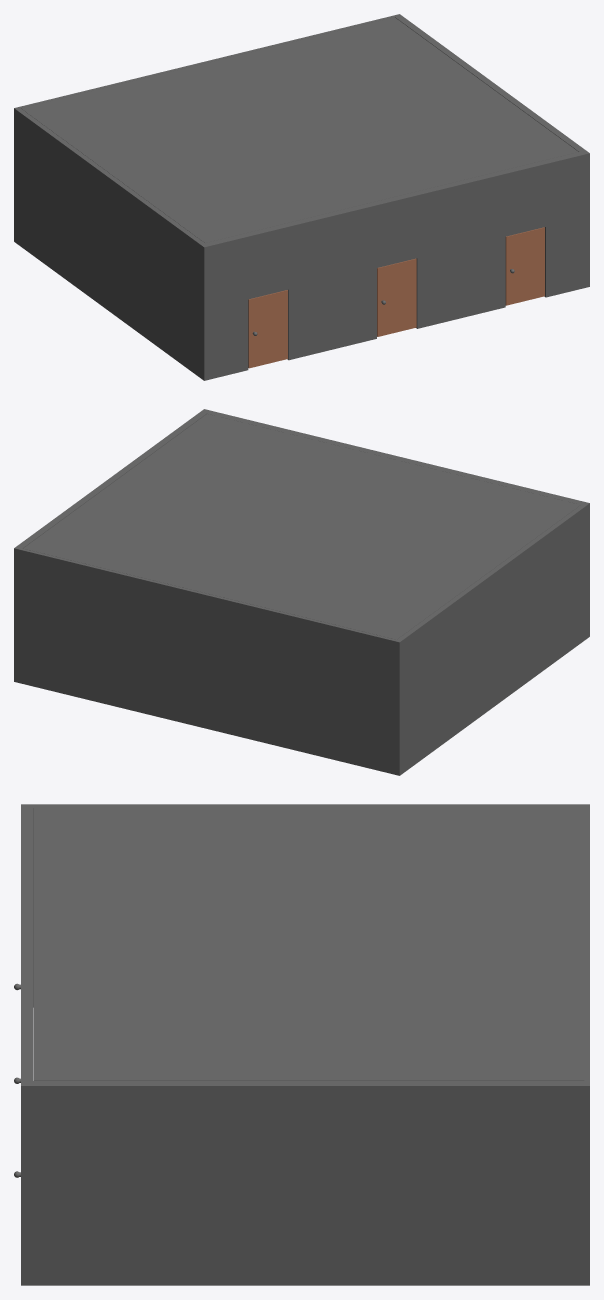
File: Main Menu Apartment 1.fbx
The picture shows the model from 3 angles, top to bottom: view 1: azimuth 30°, elevation 25°; view 2: azimuth 150°, elevation 25°; view 3: azimuth 270°, elevation 25°; orthographic projection. The views are drawn at different scales.
Parts seen in each view (by area): view 1: Door Options, Cube, Apartment Door, House Door, Studio Door; view 2: Door Options, Cube; view 3: Cube, Door Options.
Boxes of the visible parts, bbox=[...] form: Door Options: bbox=[14, 14, 589, 380]; Cube: bbox=[21, 17, 578, 242]; Apartment Door: bbox=[377, 258, 416, 336]; House Door: bbox=[248, 290, 287, 368]; Studio Door: bbox=[505, 227, 544, 305]; Door Options: bbox=[14, 409, 589, 775]; Cube: bbox=[23, 414, 580, 639]; Cube: bbox=[33, 808, 584, 1080]; Door Options: bbox=[21, 804, 589, 1285].
Bounding box in the file's own units: 1195 × 395 × 1034.
